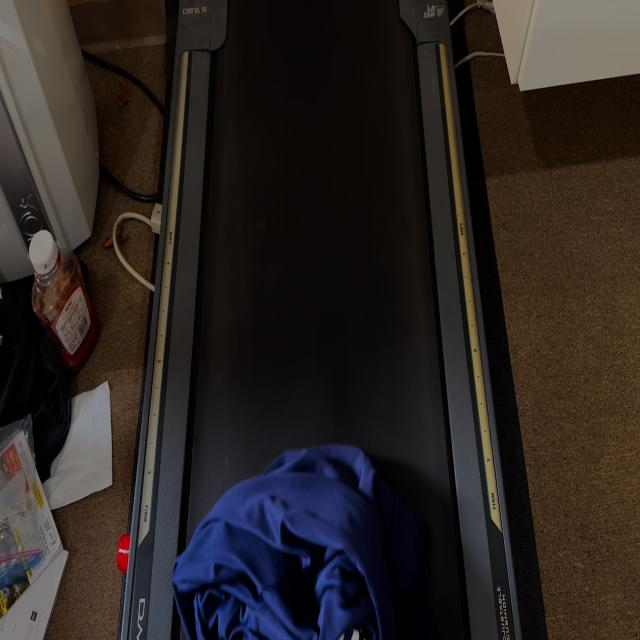Trash: (171, 439, 422, 640)
